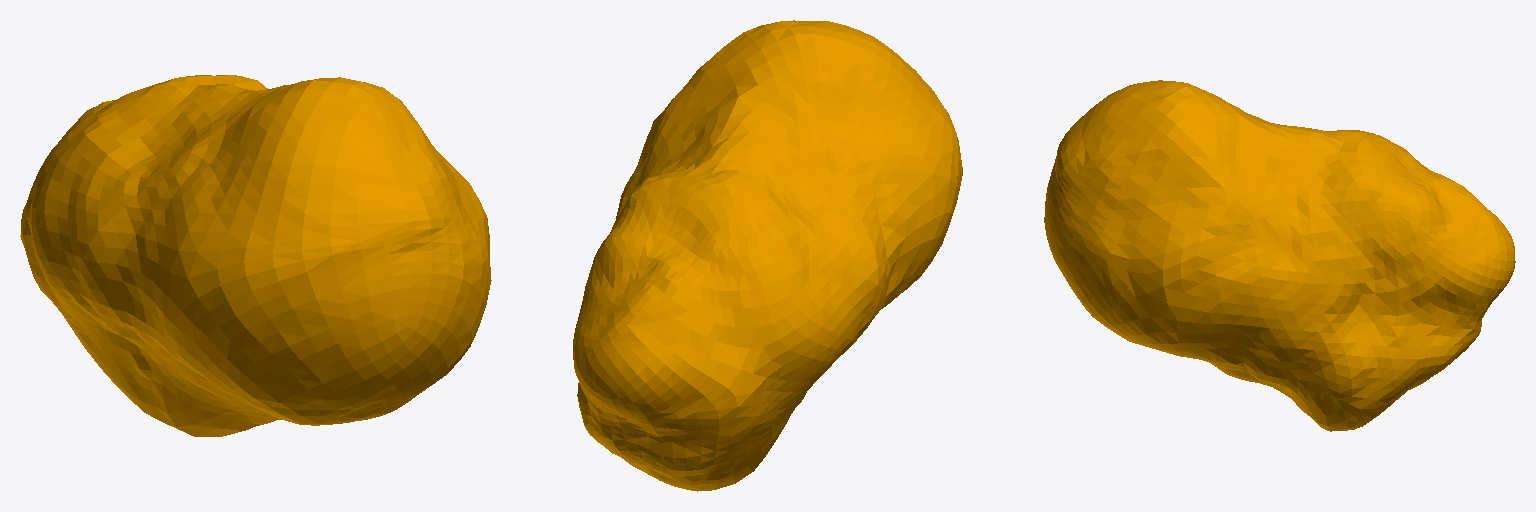
The robot description file, URDF, robot "rock":
<?xml version="1.0" ?>
<robot name="rock">
  <link name="rock">
    <inertial>
      <mass value="0.323"/>
      <origin rpy="0 0 0" xyz="0 0 0"/>
      <inertia ixx="0.000323" ixy="0" ixz="0" iyy="0.000323" iyz="0" izz="0.000323"/>
    </inertial>
    <collision name="rock_collision">
      <origin rpy="0 0 0" xyz="0 0 0"/>
      <geometry>
        <mesh filename="package://rocks/visual/145.dae" scale="1 1 1"/>
      </geometry>
    </collision>
    <visual name="rock_visual">
      <origin rpy="0 0 0" xyz="0 0 0"/>
      <geometry>
        <mesh filename="package://rocks/visual/145.dae" scale="1 1 1"/>
      </geometry>
    </visual>
  </link>
</robot>

--- Render facts (derived) ---
Views: 3 orthographic renders of the robot side by side, from view 1: azimuth 30°, elevation 25°; view 2: azimuth 150°, elevation 25°; view 3: azimuth 270°, elevation 25°.
Model rock with 1 links and 0 joints (none), rooted at rock, posed all joints at 0.
Visible links, largest first — view 1: rock; view 2: rock; view 3: rock.
Boxes of the visible links, x1=… form: rock: x1=20, y1=75, x2=491, y2=436; rock: x1=573, y1=20, x2=962, y2=491; rock: x1=1044, y1=80, x2=1515, y2=431.
Size in the robot's own frame: 0.0519 by 0.0854 by 0.0646 metres.
Meshes: 1 distinct files referenced, 1 mesh visuals loaded (1 Collada DAE).